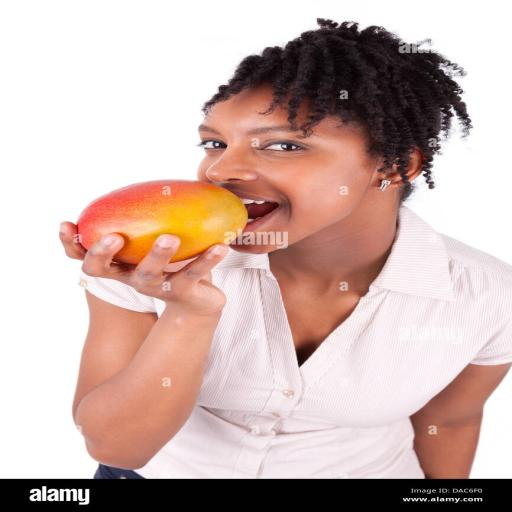mango: (77, 180, 247, 264)
